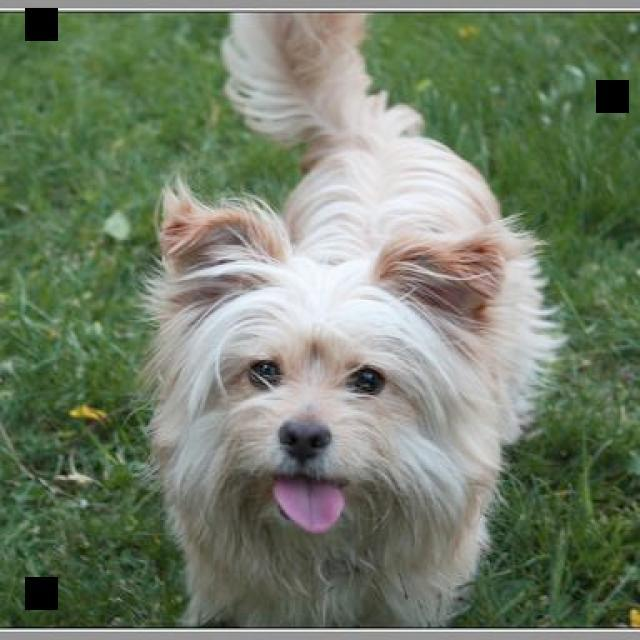adult_dog: (129, 6, 566, 631)
